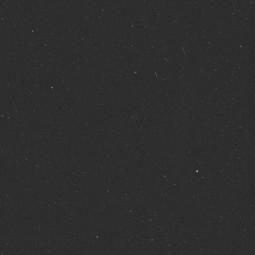earth_observation_sat_1: (136, 35, 204, 102)
